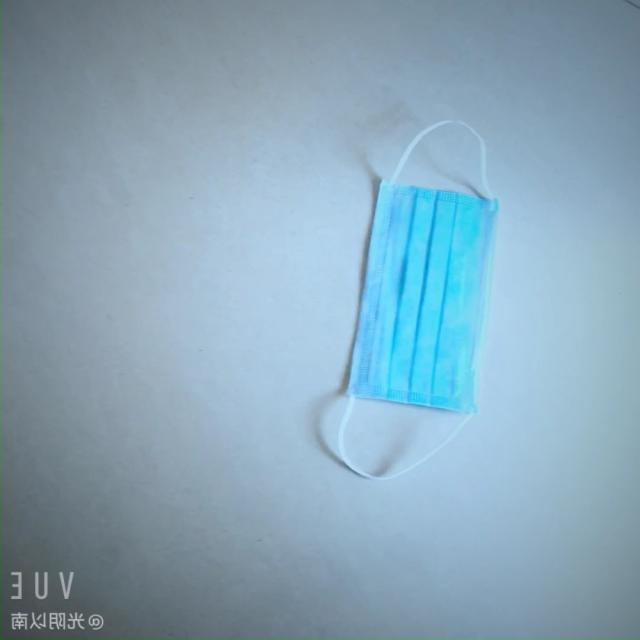face mask: (325, 158, 497, 424)
